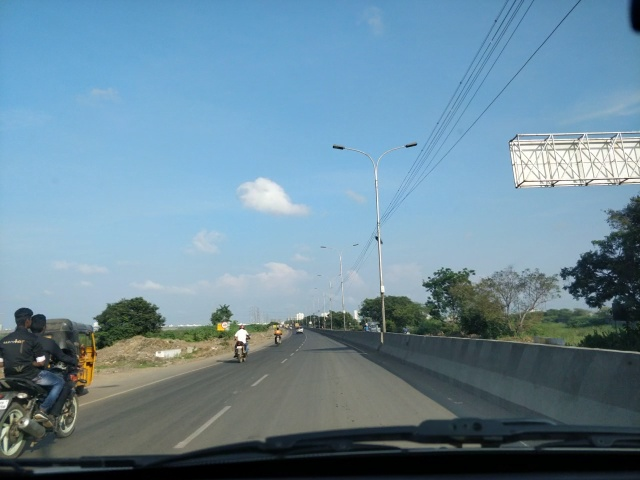auto: (44, 320, 99, 395)
car: (293, 324, 306, 335)
motorbike: (1, 307, 80, 461), (231, 319, 254, 364), (272, 323, 284, 352), (399, 321, 411, 337)
truck: (363, 317, 382, 335)
